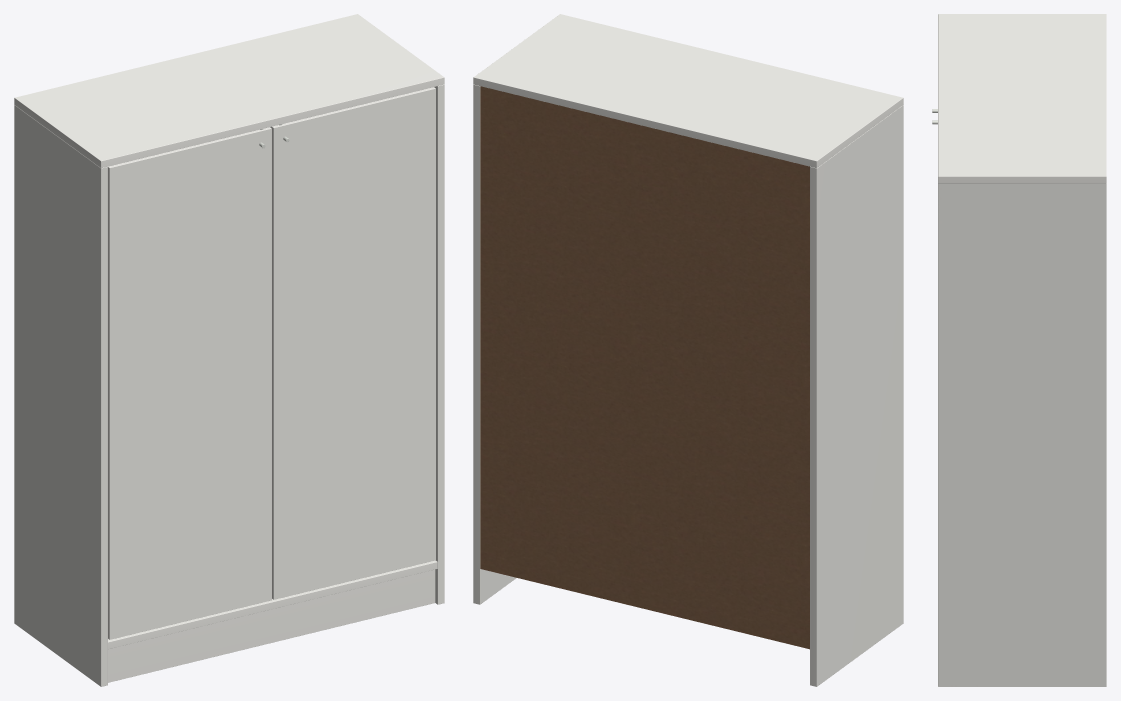
The model's file is kleppstad_szafka_na_buty_30521659.glb.
3 renders of one model, left to right at view 1: azimuth 30°, elevation 25°; view 2: azimuth 150°, elevation 25°; view 3: azimuth 270°, elevation 25°, orthographic. The views are drawn at different scales.
Parts seen in each view (by area): view 1: kleppstad_szafka_na_buty_30521659; view 2: kleppstad_szafka_na_buty_30521659; view 3: kleppstad_szafka_na_buty_30521659.
Boxes of the visible parts, x1,y1,x2,y2 form: kleppstad_szafka_na_buty_30521659: (14, 14, 444, 686); kleppstad_szafka_na_buty_30521659: (473, 14, 903, 686); kleppstad_szafka_na_buty_30521659: (932, 14, 1106, 686).
Size of the model in its own units: 0.8 by 1.17 by 0.362.
Materials: 1 (1 with a texture image).
